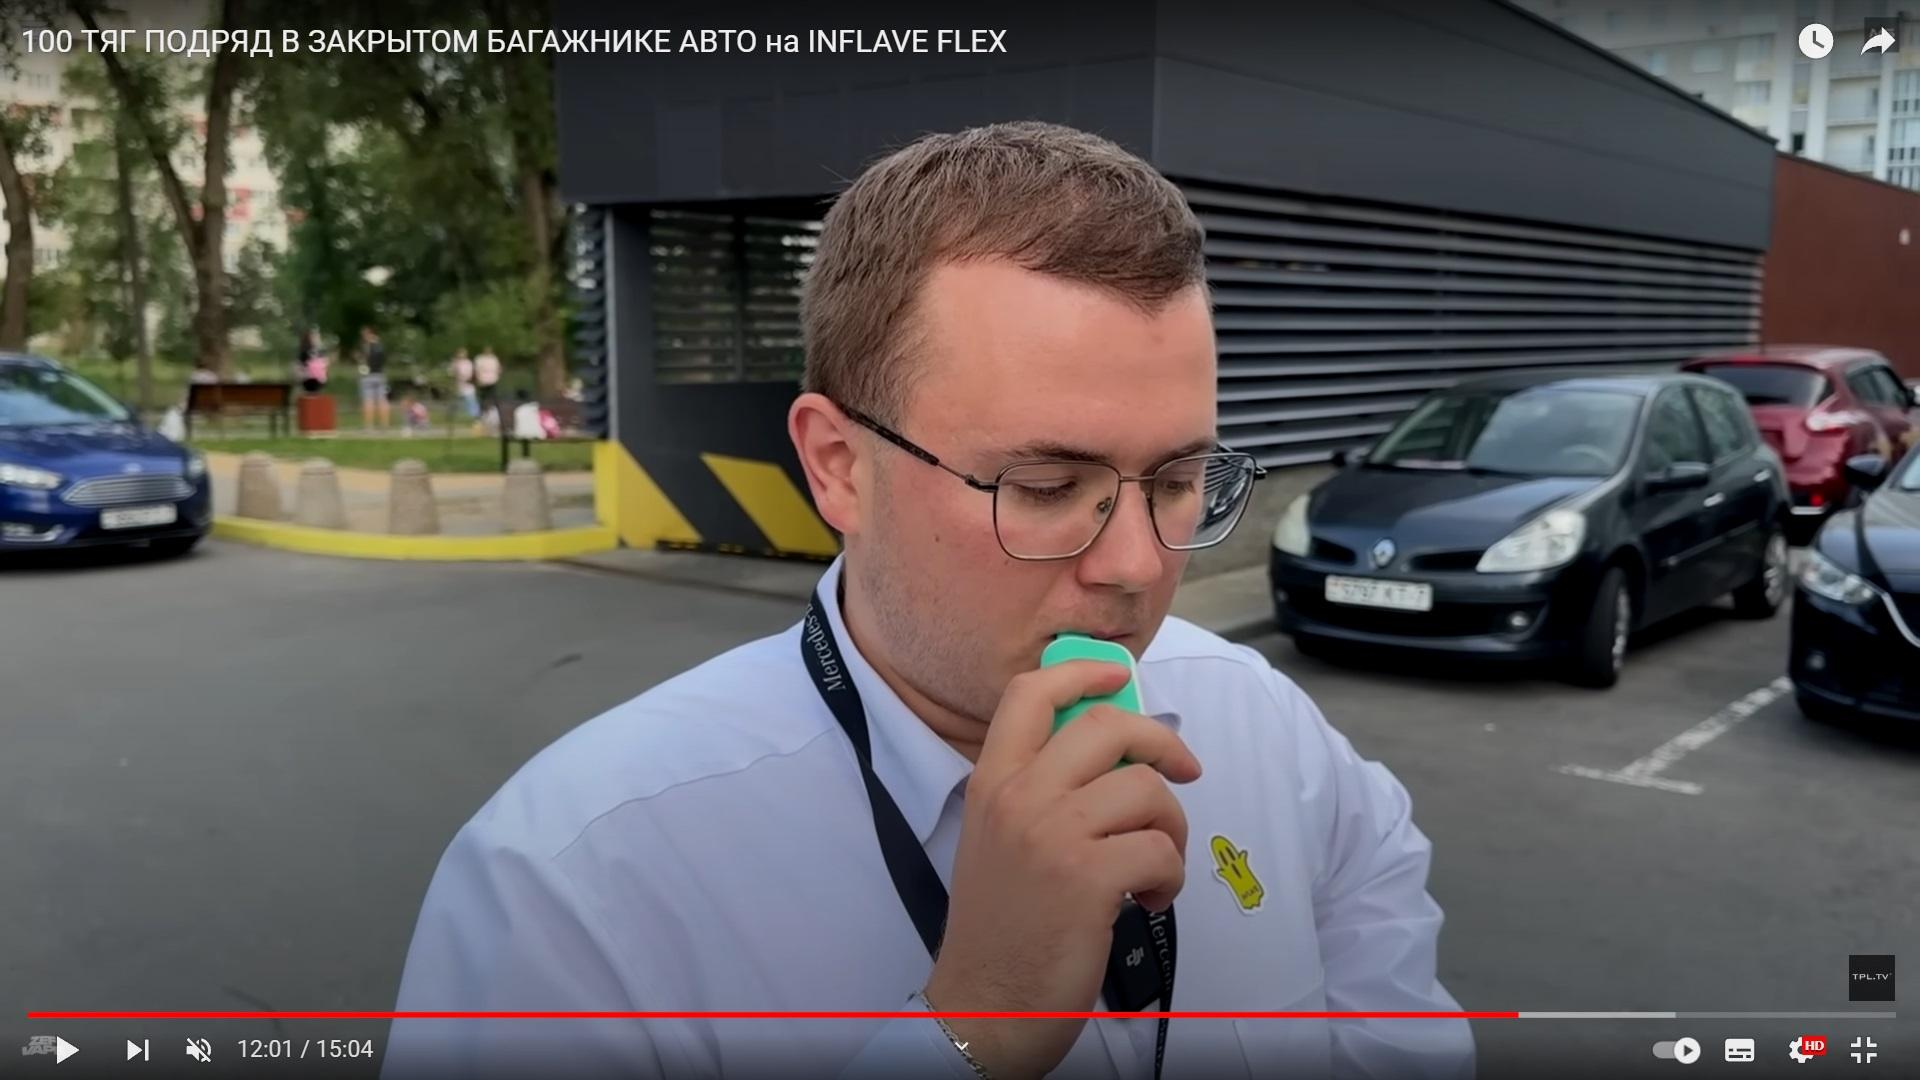Vape: (1040, 629, 1145, 736)
